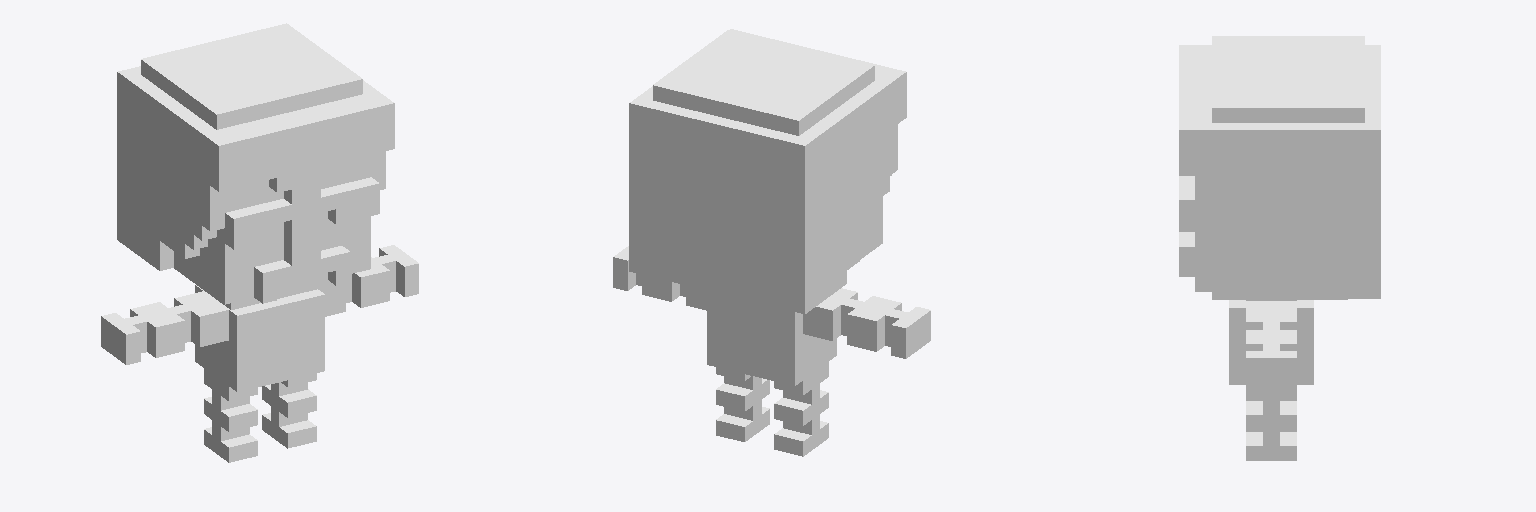
File: Rajesh.obj
3 views of the same model, side by side, from view 1: azimuth 30°, elevation 25°; view 2: azimuth 150°, elevation 25°; view 3: azimuth 270°, elevation 25° (orthographic).
Parts seen in each view (by area): view 1: object 1; view 2: object 1; view 3: object 1.
Boxes of the visible parts, <box> form: object 1: <box>101,23,418,462</box>; object 1: <box>613,29,930,456</box>; object 1: <box>1179,36,1380,460</box>.
Bounding box in the file's own units: 2 × 2.4 × 1.2.